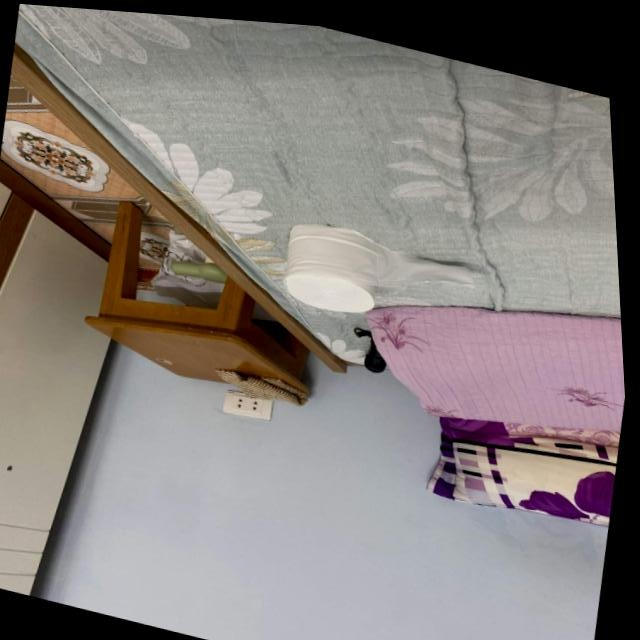outlet: (219, 387, 274, 425)
